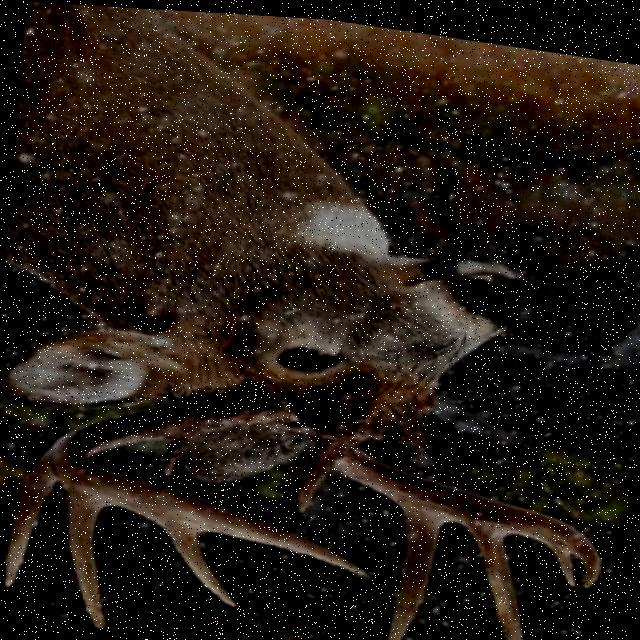L-F: (45, 371, 373, 575)
L-G1: (160, 435, 192, 474)
L-G2: (3, 456, 57, 588)
L-G3: (61, 482, 113, 627)
L-G4: (138, 511, 240, 606)
R-F: (314, 429, 603, 581)
R-G1: (296, 440, 335, 508)
R-G2: (387, 494, 451, 640)
R-G3: (460, 517, 526, 640)
